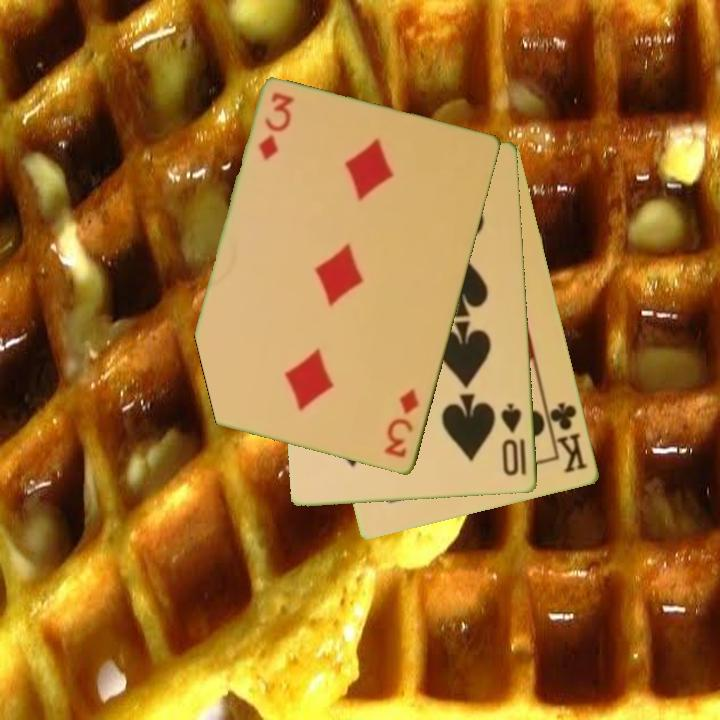10s: (498, 400, 530, 480)
3d: (381, 386, 422, 461), (255, 90, 296, 164)
Kc: (542, 399, 590, 476)
